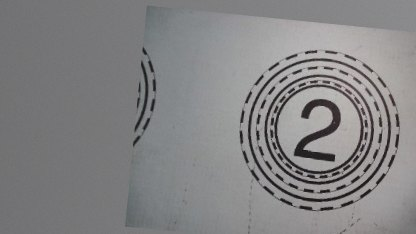2r: (230, 41, 407, 218)
